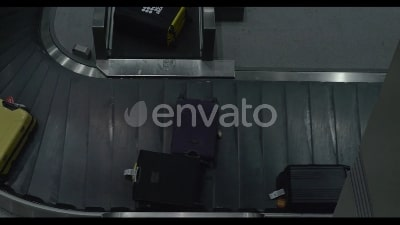baggage: (266, 162, 356, 215), (124, 151, 210, 206), (169, 92, 228, 163), (1, 94, 40, 186)
